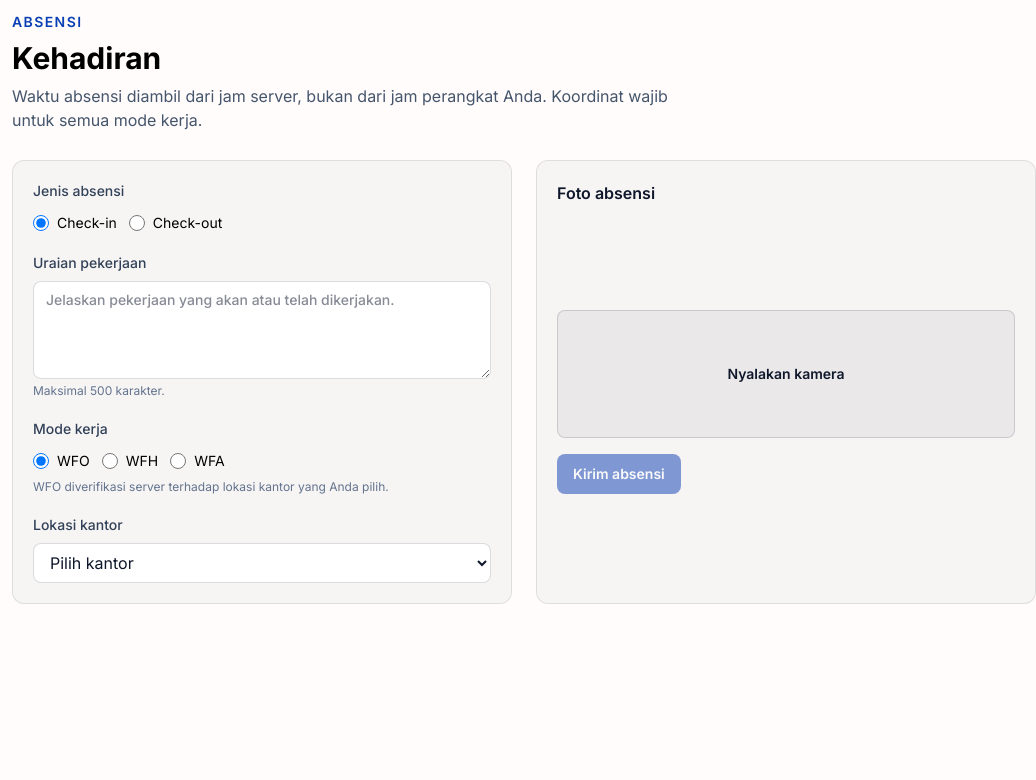
Scenario: CheckInPage › offers the fallback upload when the browser has no camera API
Step 1. Click the button "Nyalakan kamera" → (786, 374), box [557, 310, 1015, 438]
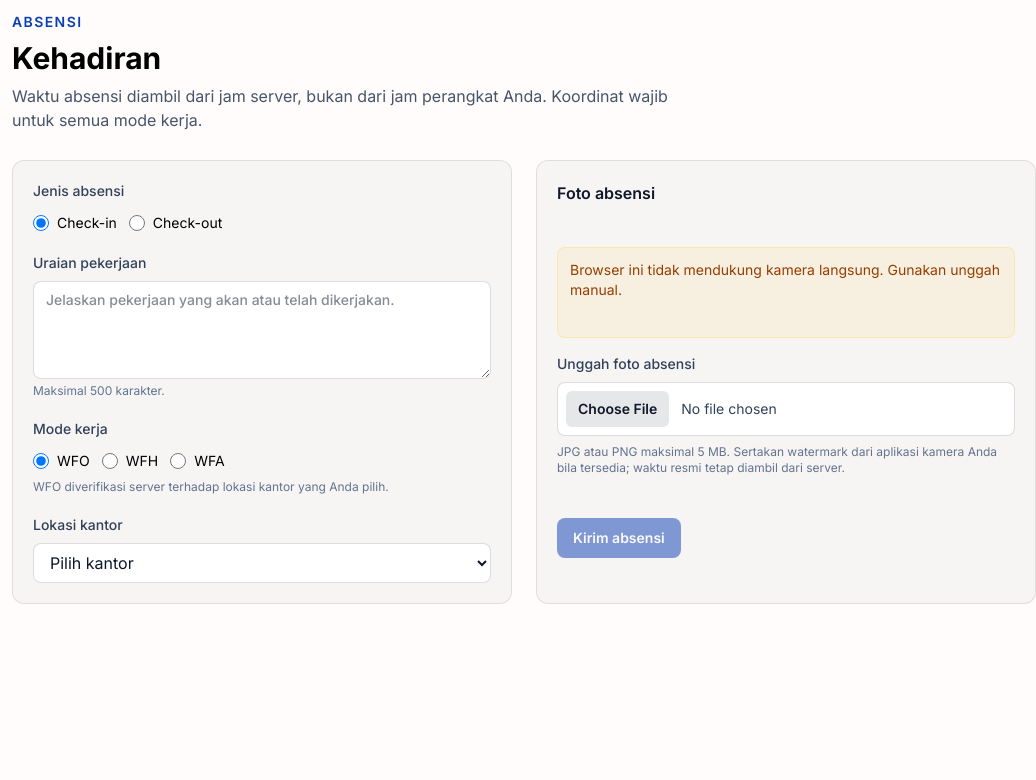
Expected: the message shows "tidak mendukung kamera", [570, 260, 1000, 298]
Expected: the file field labelled "Unggah foto absensi" is shown, [557, 382, 1015, 436]
